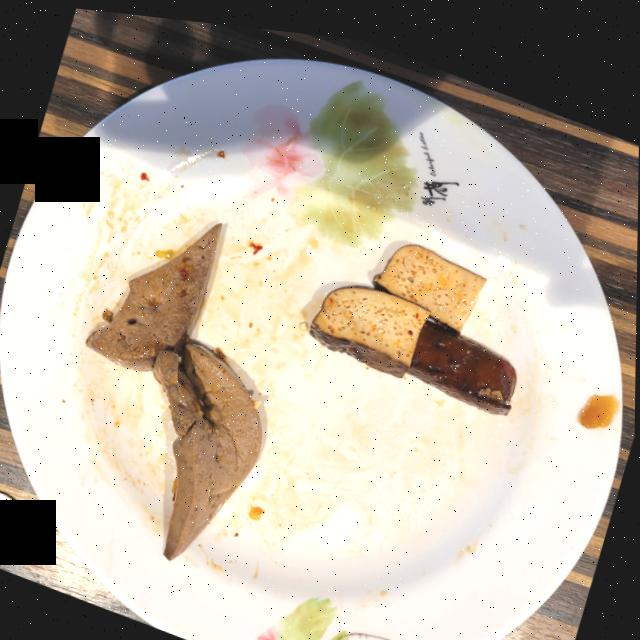coin: (0, 492, 25, 552)
firm tofu: (309, 235, 516, 403)
pig liver: (86, 218, 262, 555)
